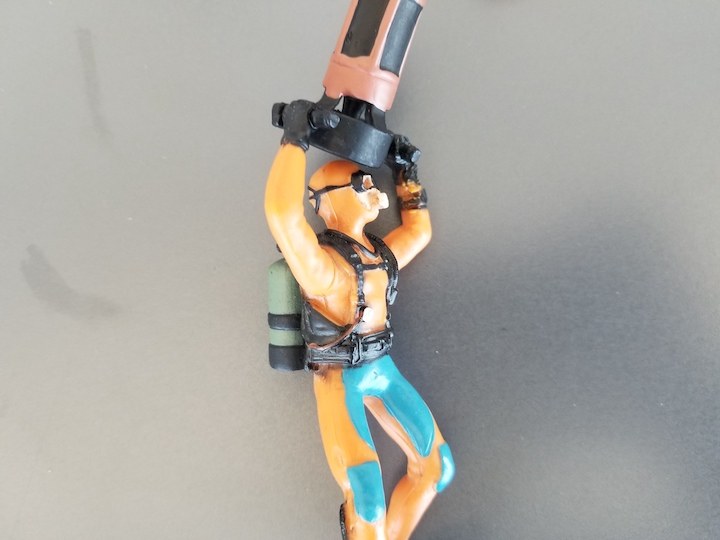diver: (260, 2, 464, 540)
